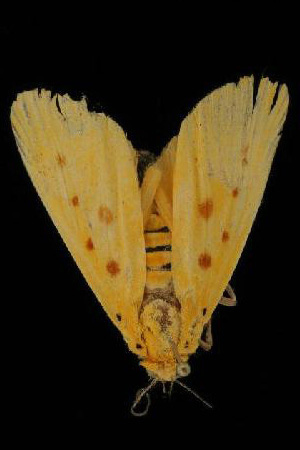Agape chloropyga: (6, 70, 288, 421)
moth: (8, 72, 290, 423)
